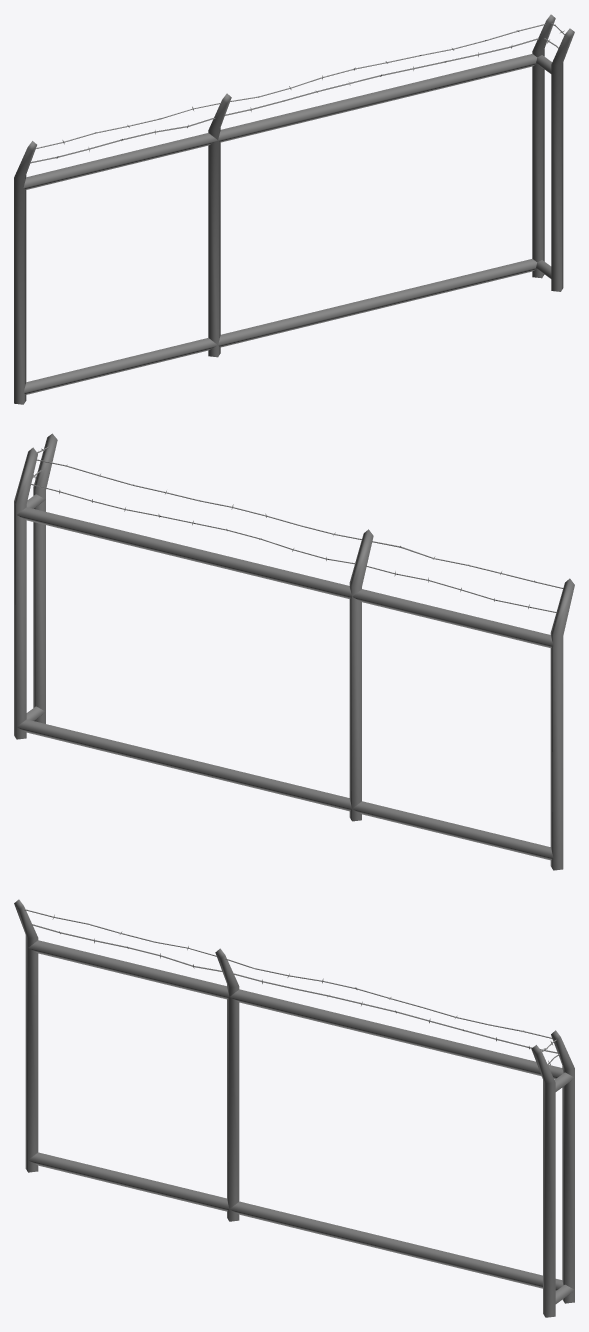
File: SW_ENV_OpenTunnel_TrackRise_Single_End_WireFence.fbx
The picture shows the model from 3 angles, top to bottom: view 1: azimuth 30°, elevation 25°; view 2: azimuth 150°, elevation 25°; view 3: azimuth 330°, elevation 25°; orthographic projection. The views are drawn at different scales.
Visible parts, largest first — view 1: SW_ENV_OpenTunnel_TrackRise_Single_End_WireFence; view 2: SW_ENV_OpenTunnel_TrackRise_Single_End_WireFence; view 3: SW_ENV_OpenTunnel_TrackRise_Single_End_WireFence.
Boxes of the visible parts, x1,y1,x2,y2 form: SW_ENV_OpenTunnel_TrackRise_Single_End_WireFence: [14, 14, 574, 404]; SW_ENV_OpenTunnel_TrackRise_Single_End_WireFence: [14, 433, 574, 870]; SW_ENV_OpenTunnel_TrackRise_Single_End_WireFence: [14, 899, 574, 1317].
Size of the model in its own units: 4.91 by 2.39 by 0.5566.
